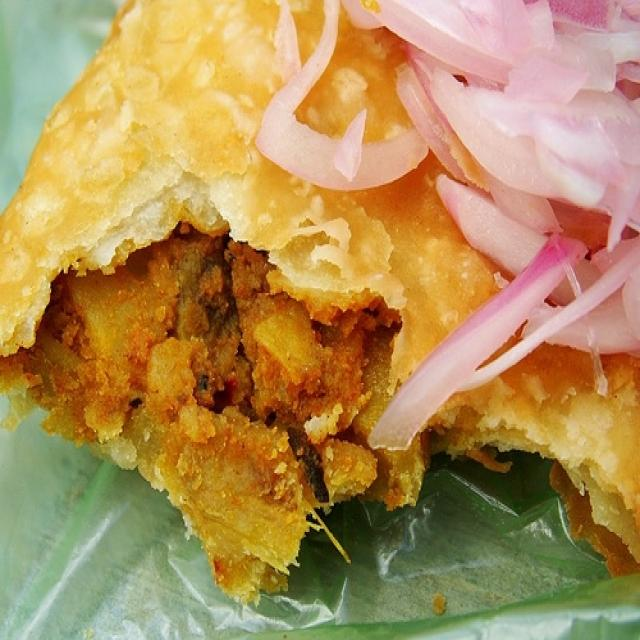炸货点心: (13, 10, 635, 637)
